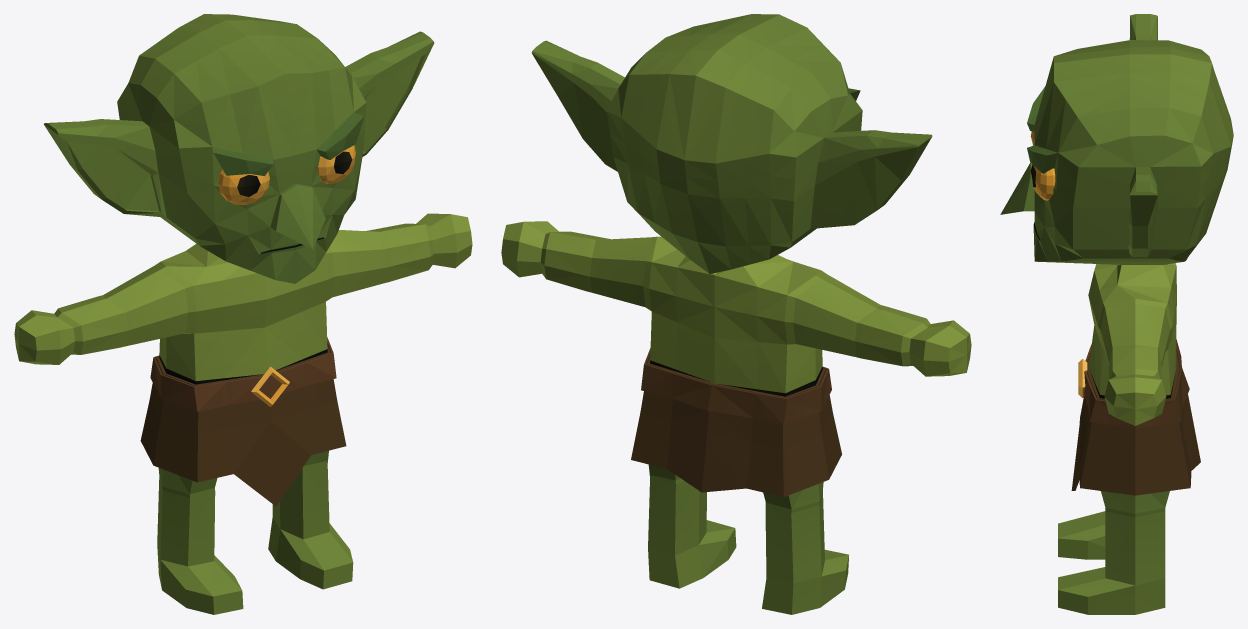
The model's file is Basic_Goblin.obj.
The picture shows the model from 3 angles, left to right: view 1: azimuth 30°, elevation 25°; view 2: azimuth 150°, elevation 25°; view 3: azimuth 270°, elevation 25°; orthographic projection. The views are drawn at different scales.
Parts seen in each view (by area): view 1: Goblin, Pant, Blet, Eyes; view 2: Goblin, Pant, Blet; view 3: Goblin, Pant, Blet, Eyes.
Boxes of the visible parts, <box> form: Goblin: <box>14,14,472,614</box>; Pant: <box>140,345,346,506</box>; Blet: <box>150,337,336,411</box>; Eyes: <box>218,145,355,204</box>; Goblin: <box>501,14,971,614</box>; Pant: <box>631,357,841,497</box>; Blet: <box>641,348,831,424</box>; Goblin: <box>1000,14,1233,614</box>; Pant: <box>1071,348,1200,495</box>; Blet: <box>1078,339,1189,428</box>; Eyes: <box>1030,131,1055,200</box>.
Size of the model in its own units: 0.876 by 1 by 0.406.
